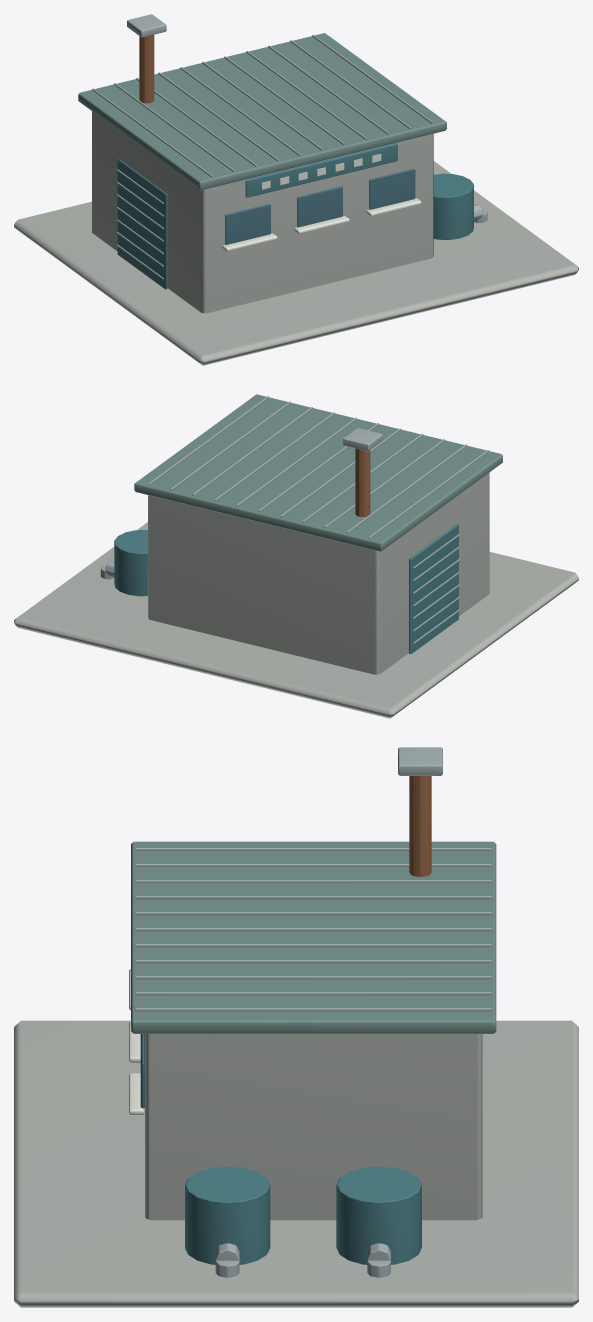
The model's file is PortPumpHouse.glb.
3 renders of one model, top to bottom at view 1: azimuth 30°, elevation 25°; view 2: azimuth 150°, elevation 25°; view 3: azimuth 270°, elevation 25°, orthographic. The views are drawn at different scales.
Parts seen in each view (by area): view 1: Pump station apron, Service house, Standing seam roof, Roller door, Pump motor, Harbor maintenance sign, Salt darkened window.002, Salt darkened window.001, Salt darkened window, Station vent, Vent hood; view 2: Service house, Standing seam roof, Pump station apron, Roller door, Pump motor.001, Station vent, Vent hood, Roof seam, Roof seam.001, Roof seam.006, Roof seam.007; view 3: Pump station apron, Standing seam roof, Service house, Pump motor.001, Pump motor, Station vent, Roof seam.003, Roof seam.004, Roof seam.005, Roof seam.006, Roof seam.007, Roof seam.008 (+6 smaller).
Part boxes in pixels (x1,y1,x2,y2): Pump station apron: (14,161,578,365); Service house: (92,111,433,313); Standing seam roof: (78,33,446,190); Roller door: (117,159,167,289); Pump motor: (433,173,473,239); Harbor maintenance sign: (245,143,397,197); Salt darkened window.002: (369,168,415,209); Salt darkened window.001: (297,186,342,227); Salt darkened window: (225,203,270,244); Station vent: (139,35,154,103); Vent hood: (127,14,166,37); Service house: (148,472,489,674); Standing seam roof: (134,394,502,551); Pump station apron: (14,522,578,718); Roller door: (409,524,458,653); Pump motor.001: (114,530,147,596); Station vent: (355,448,370,516); Vent hood: (343,428,382,451); Roof seam: (368,450,489,538); Roof seam.001: (346,444,467,533); Roof seam.006: (236,417,357,506); Roof seam.007: (214,412,335,501); Pump station apron: (14,1020,578,1307); Standing seam roof: (131,841,496,1033); Service house: (145,1034,482,1220); Pump motor.001: (336,1166,421,1264); Pump motor: (185,1166,270,1264); Station vent: (409,776,431,876); Roof seam.003: (135,896,492,899); Roof seam.004: (135,912,492,915); Roof seam.005: (135,928,492,931); Roof seam.006: (135,944,492,947); Roof seam.007: (135,960,492,963); Roof seam.008: (135,976,492,979).
Bounding box in the file's own units: 9.5 × 5.51 × 8.2.
